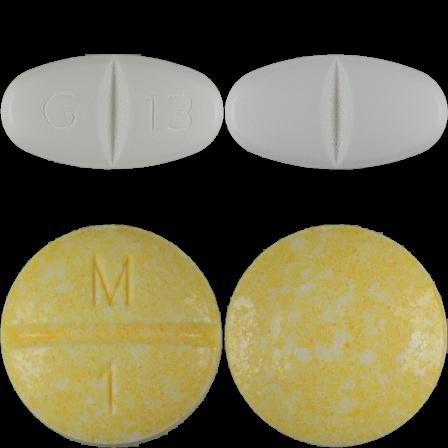42254-109: (0, 0, 224, 224)
